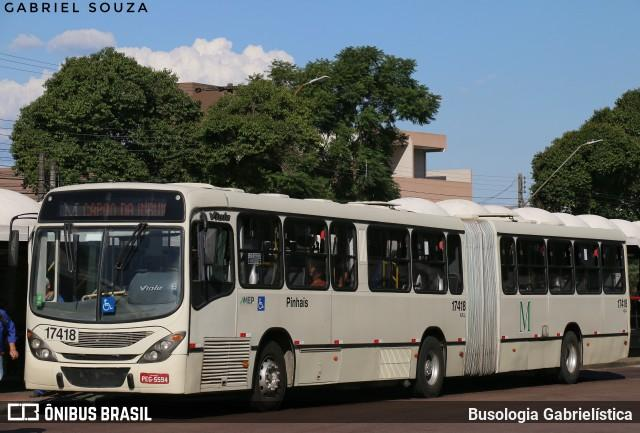CAPAO DA IMBUIA: (80, 199, 171, 221)
